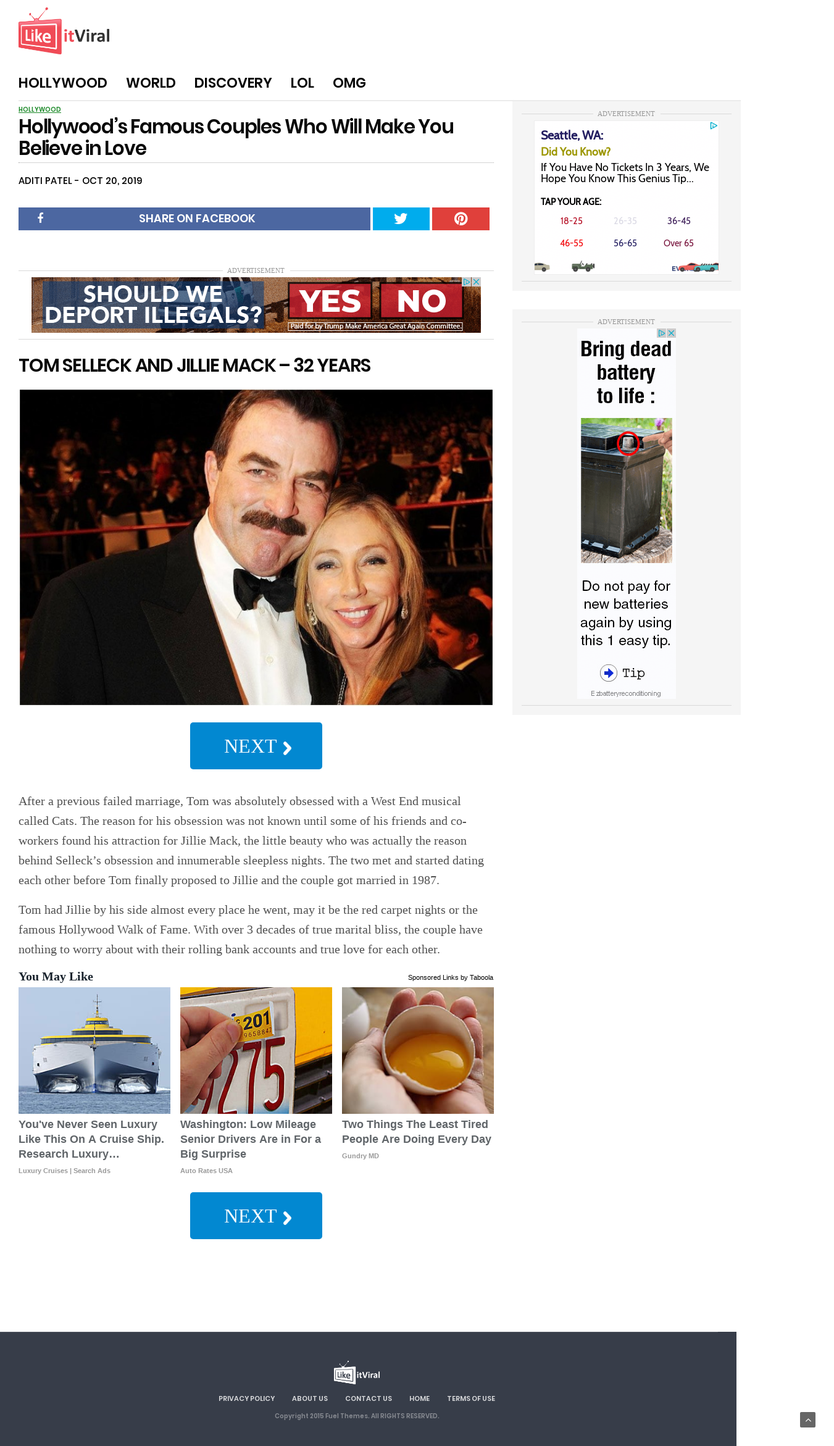fake_button: (177, 1175, 350, 1260), (173, 710, 342, 784)
